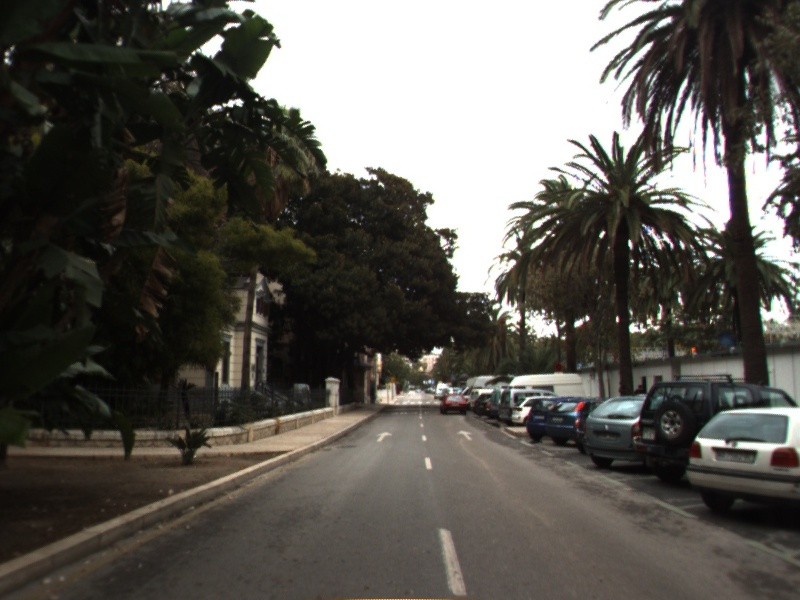STRAIGHT: (374, 430, 395, 444), (455, 428, 475, 442)
